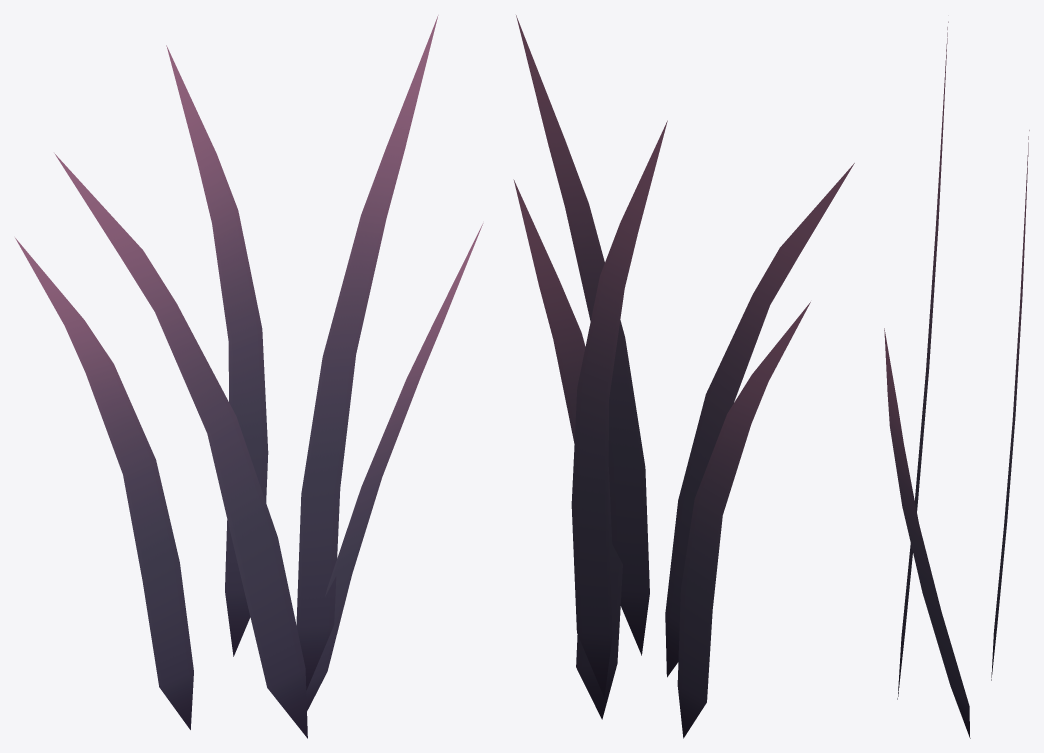
The model's file is prop_ReedGrass_01.fbx.
3 views of the same model, side by side, from view 1: azimuth 30°, elevation 25°; view 2: azimuth 150°, elevation 25°; view 3: azimuth 270°, elevation 25° (orthographic). The views are drawn at different scales.
Parts seen in each view (by area): view 1: prop_ReedGrass_01; view 2: prop_ReedGrass_01; view 3: prop_ReedGrass_01.
Part boxes in pixels (<box>): prop_ReedGrass_01: <box>15,15,483,738</box>; prop_ReedGrass_01: <box>513,15,854,738</box>; prop_ReedGrass_01: <box>884,21,1029,738</box>.
Size of the model in its own units: 229 by 387 by 77.2.
1 material, 1 textured.
